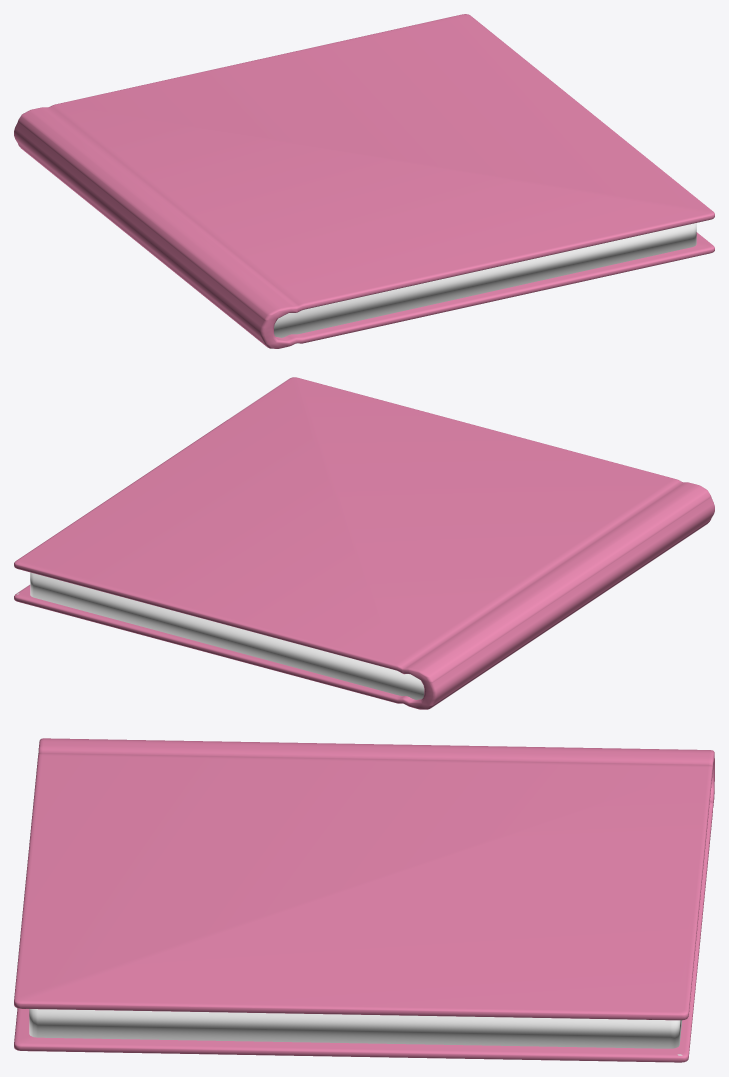
File: book_pink.fbx
3 views of the same model, one above another, from view 1: azimuth 30°, elevation 25°; view 2: azimuth 150°, elevation 25°; view 3: azimuth 270°, elevation 25° (orthographic). The views are drawn at different scales.
Visible parts, largest first — view 1: Cube.019; view 2: Cube.019; view 3: Cube.019.
Part boxes in pixels (bbox=[...]): Cube.019: bbox=[14, 14, 714, 348]; Cube.019: bbox=[14, 377, 714, 709]; Cube.019: bbox=[14, 738, 714, 1062].
Size of the model in its own units: 356 by 29.19 by 371.
